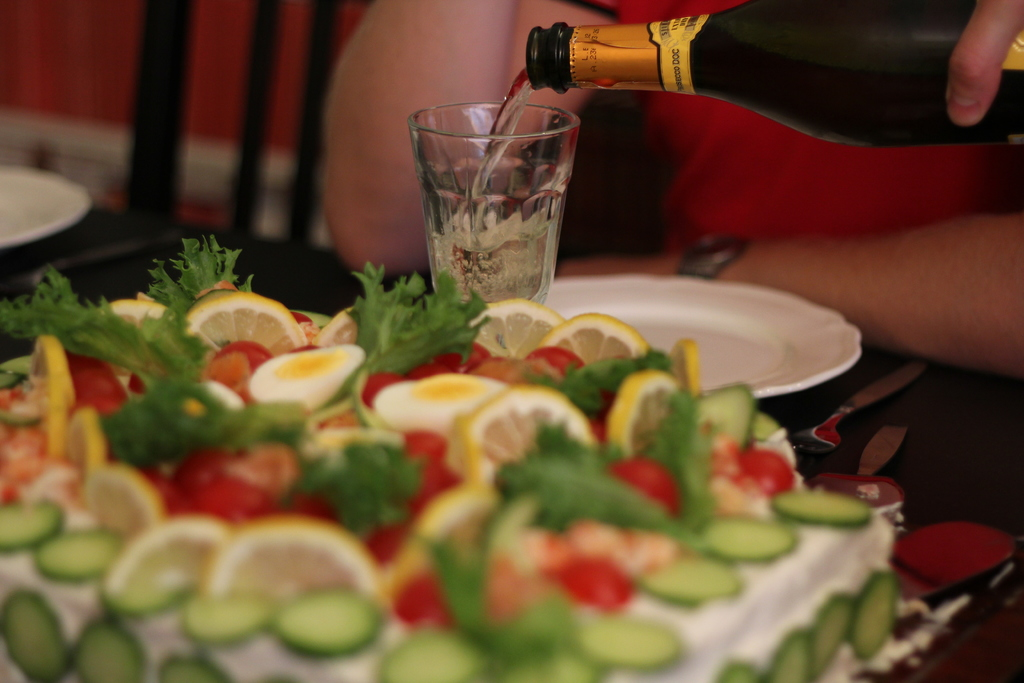salad: (0, 230, 892, 682)
